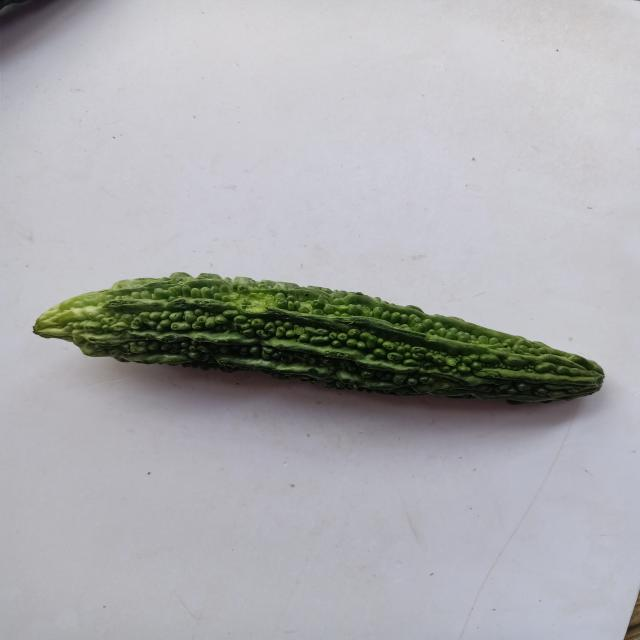Bitter Gourd: (19, 237, 640, 463)
